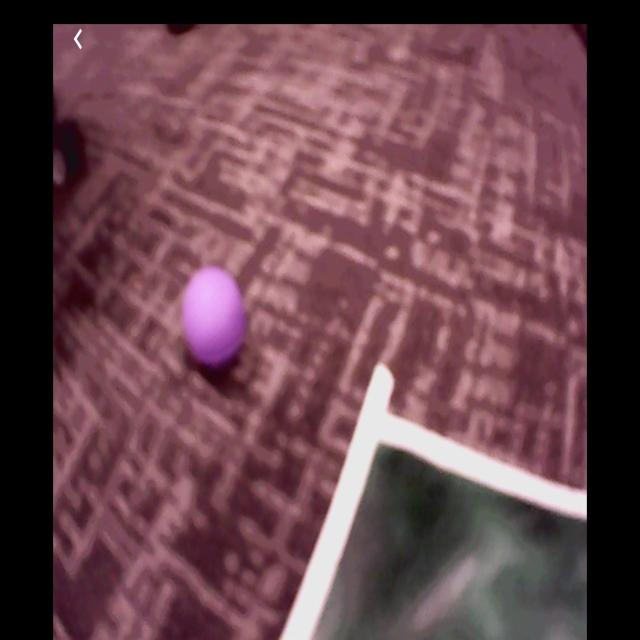ball: (182, 268, 251, 367)
